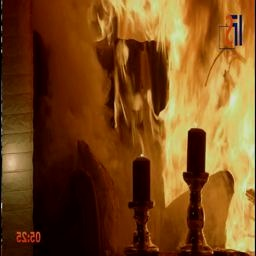fire: (136, 0, 254, 252)
